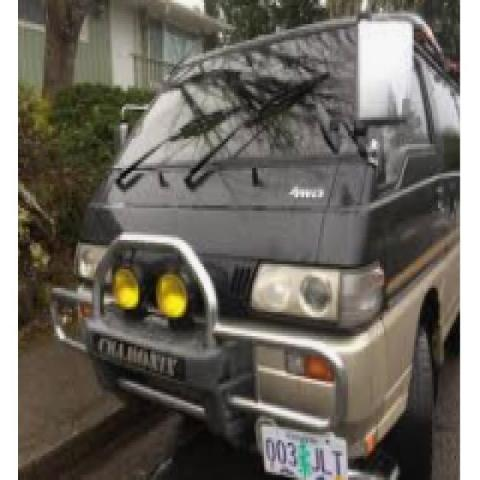van: (52, 14, 462, 478)
